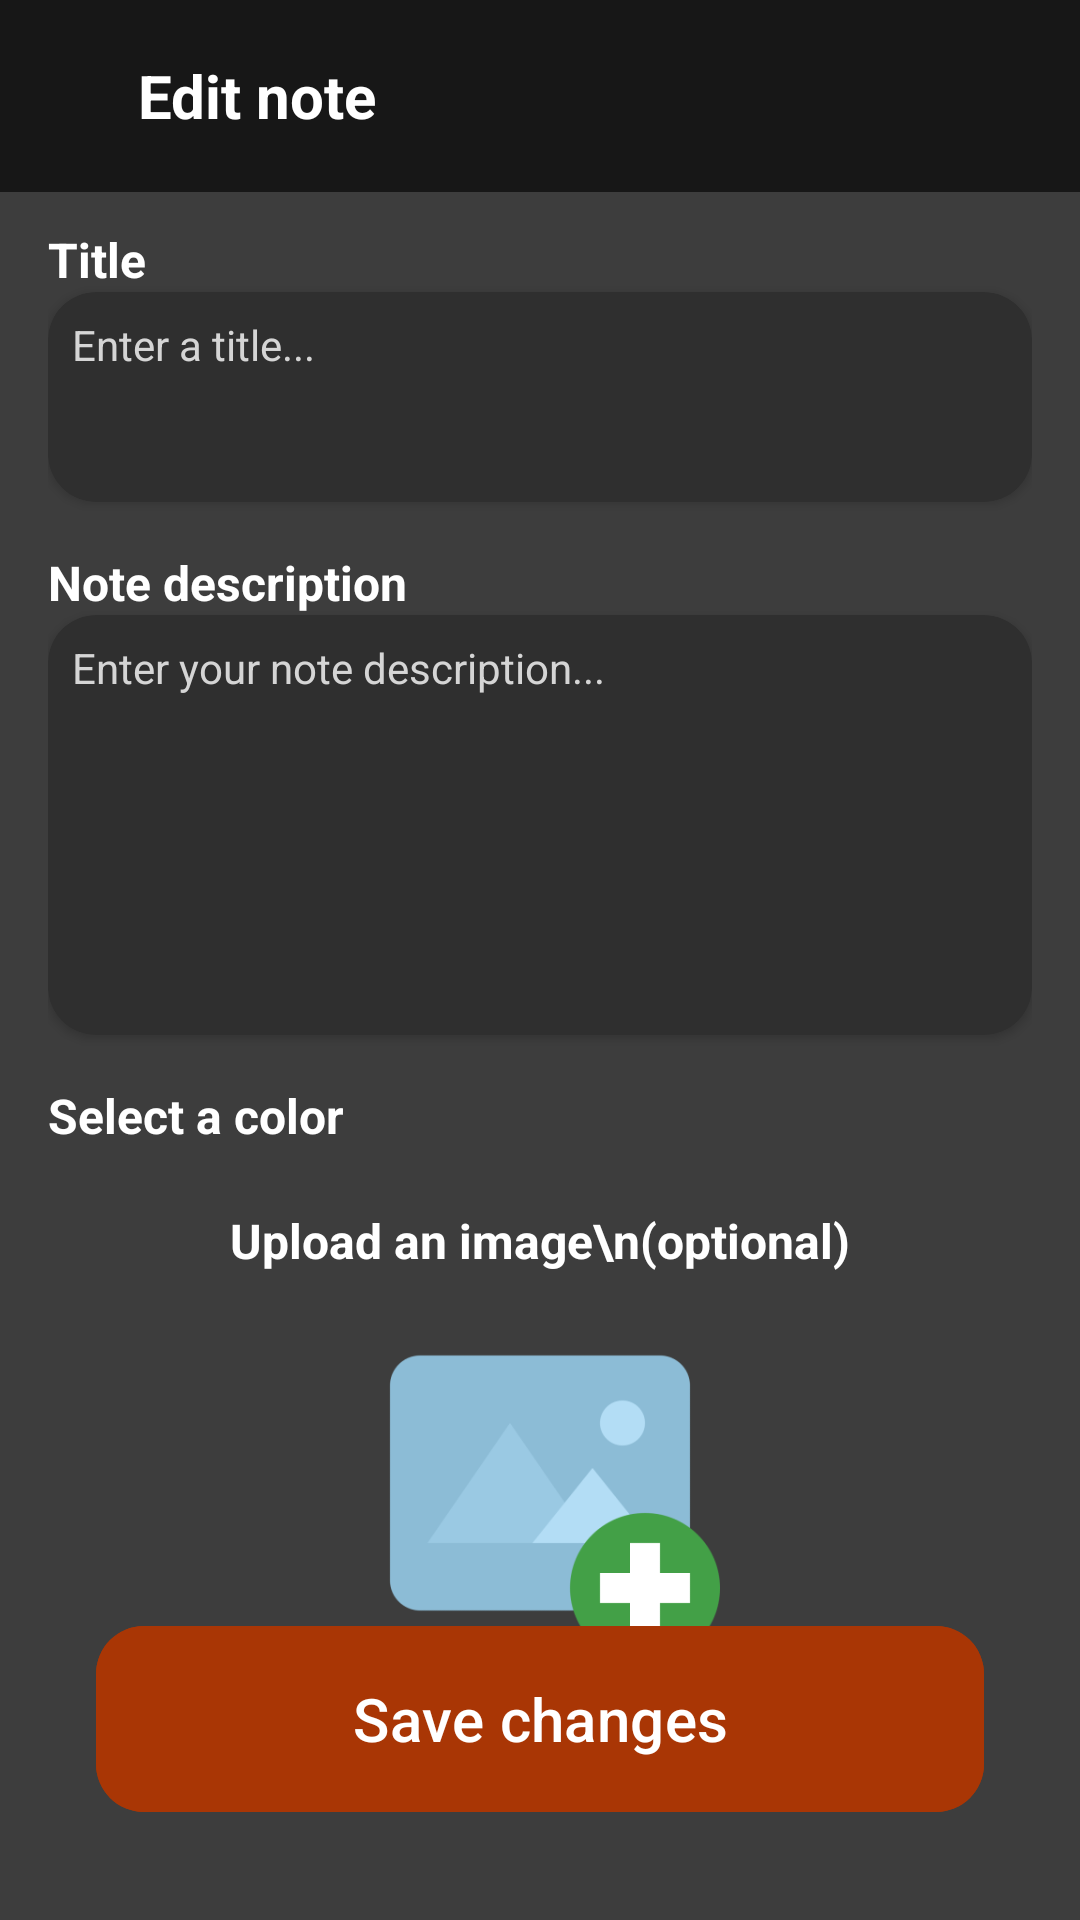

Named icons in this screenshot (1080px×1920px) and their centers, [x,y]:
add: [540,1509]
